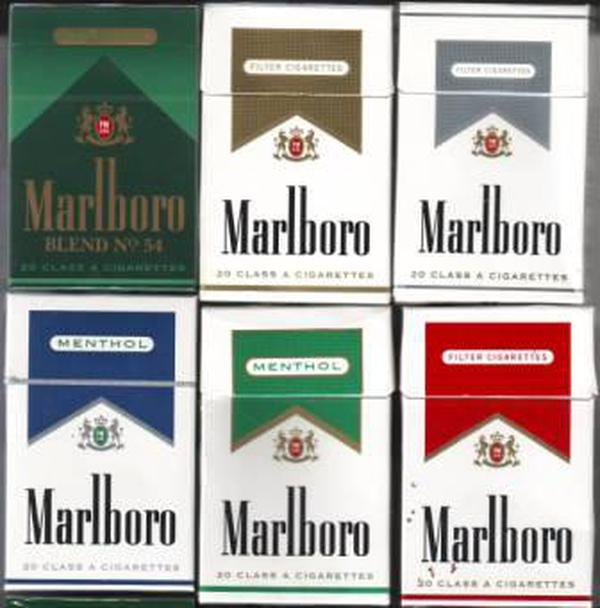marlboro_mentol: (197, 310, 390, 601)
marlboro_red: (402, 306, 593, 608)
